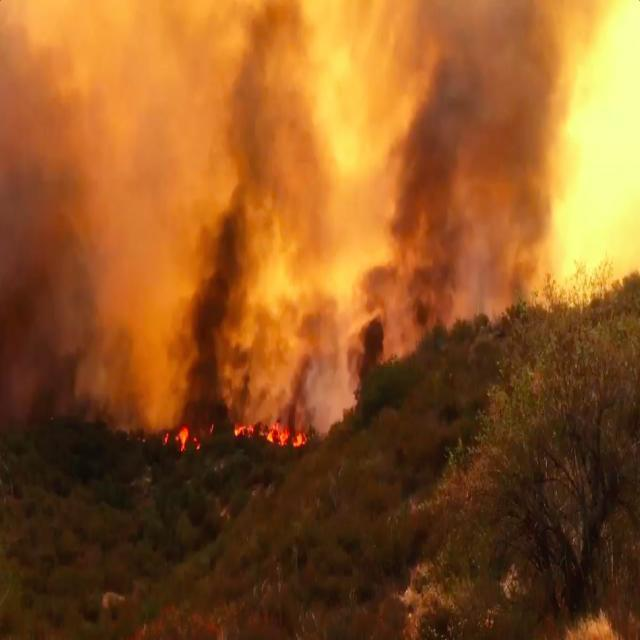Fire: (131, 422, 307, 453)
Smoke: (0, 0, 553, 418)
